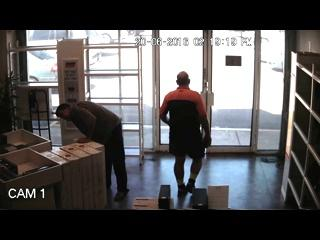Normal: (56, 101, 130, 201), (158, 71, 212, 195)
